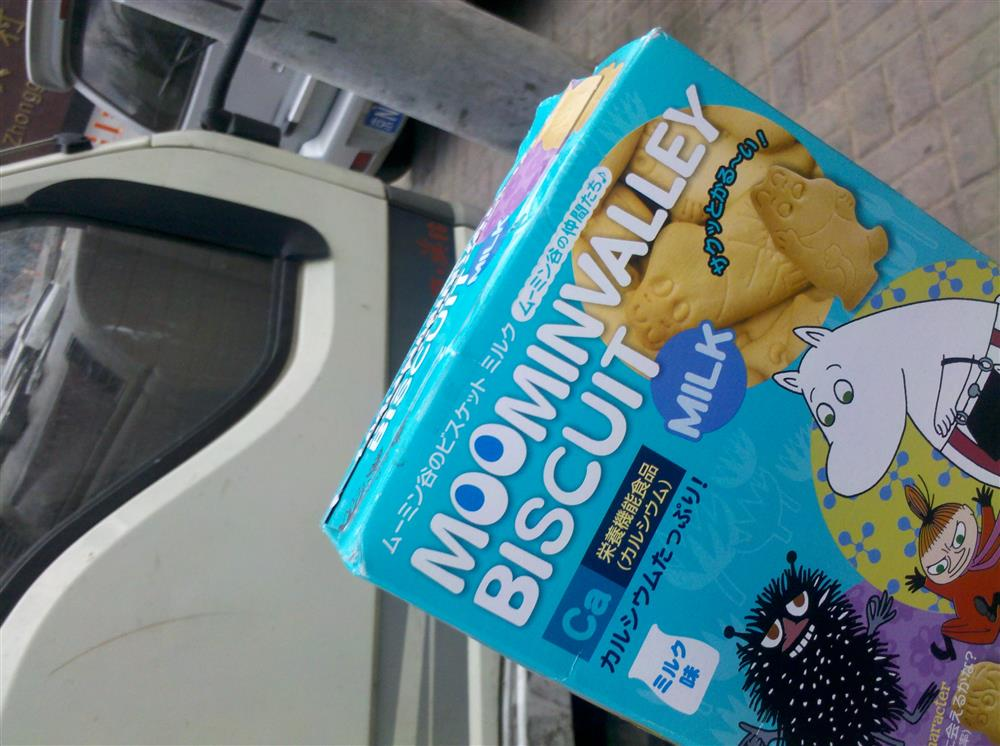Moominvalley_Biscuit: (331, 26, 998, 742)
